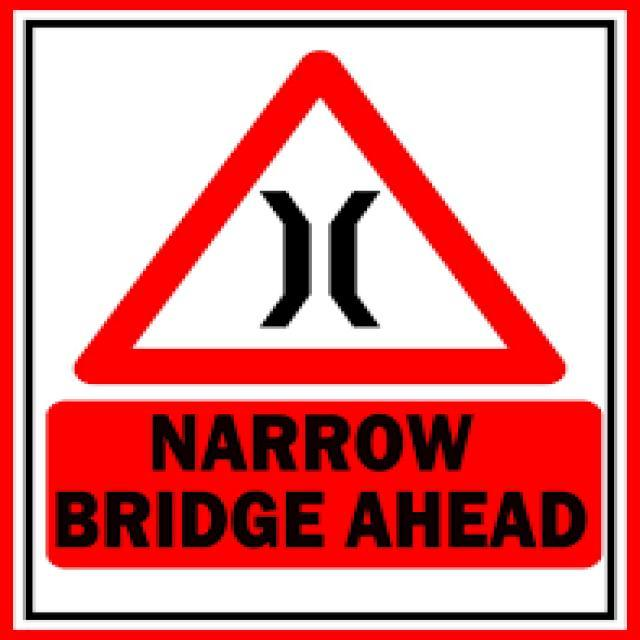narrow bridge ahead: (73, 47, 565, 385)
